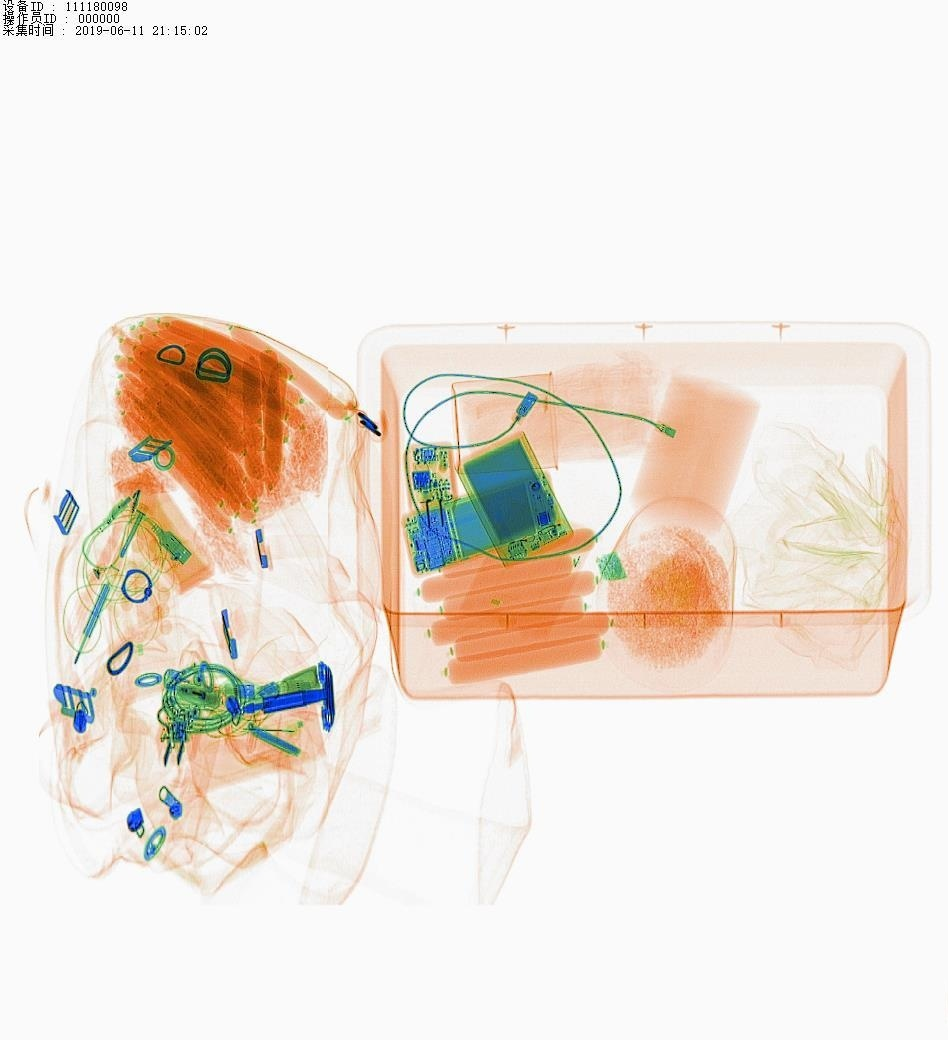NonmetallicFire: (138, 656, 286, 746)
